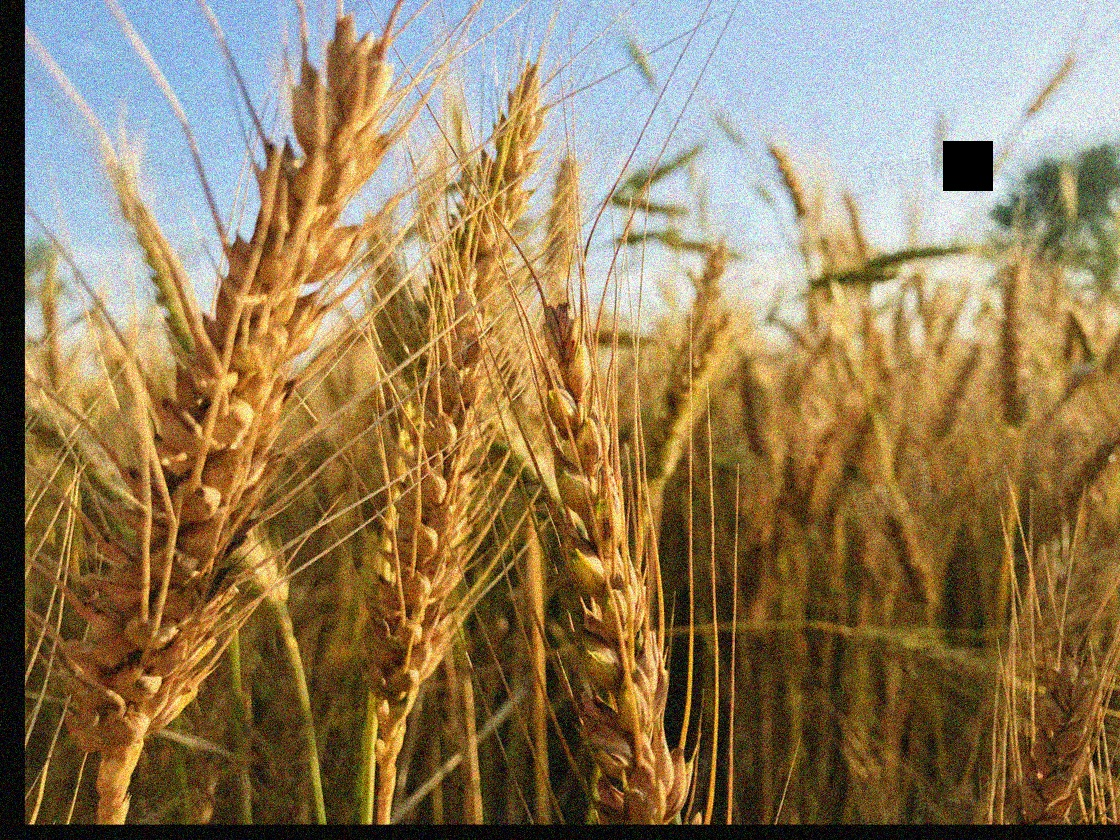wheat: (77, 40, 379, 767), (371, 122, 514, 738), (542, 320, 712, 819)
